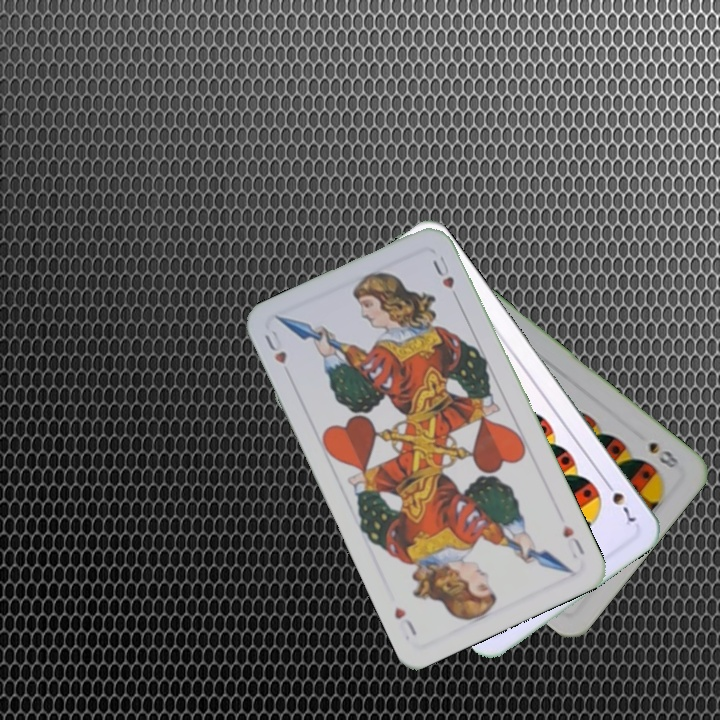HU: (558, 521, 588, 562), (260, 326, 289, 367)
S7: (600, 476, 639, 528)
S8: (644, 437, 682, 471)
